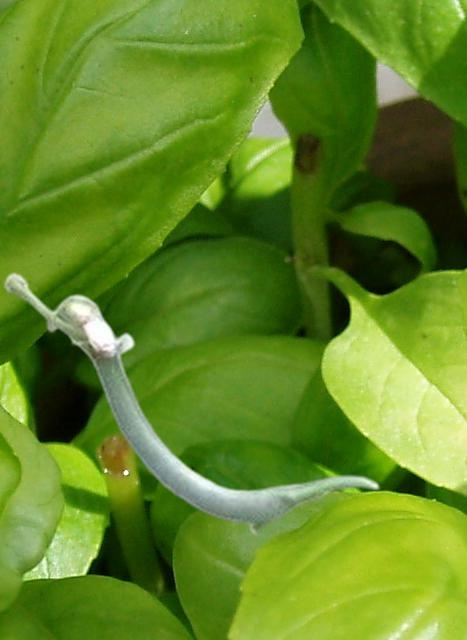french_bean: (3, 271, 379, 535)
